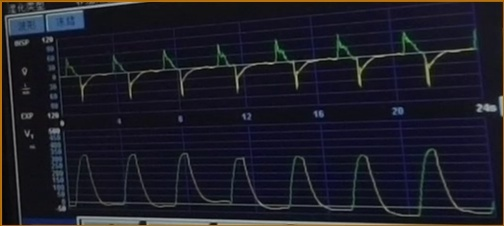Accumulation Flow: (61, 29, 470, 105)
Volume: (70, 146, 493, 216)
